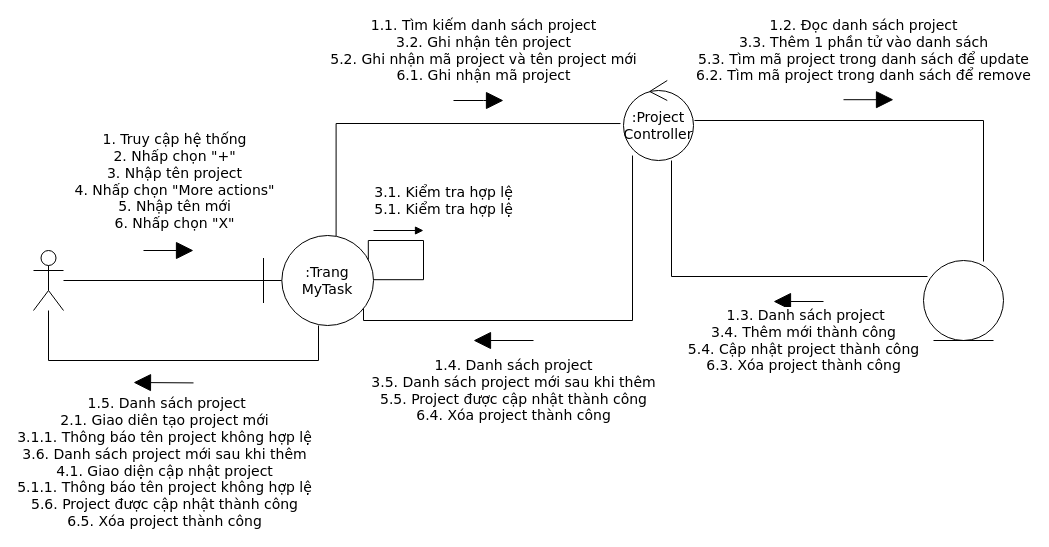
Some shapes in this 1049 by 547 pixel diagram are drawn without their labels. Here are the shapes that lost their labels. From the top down, the centre of each, then its label:
the point at 48,280: :User
the point at 963,300: :Project
